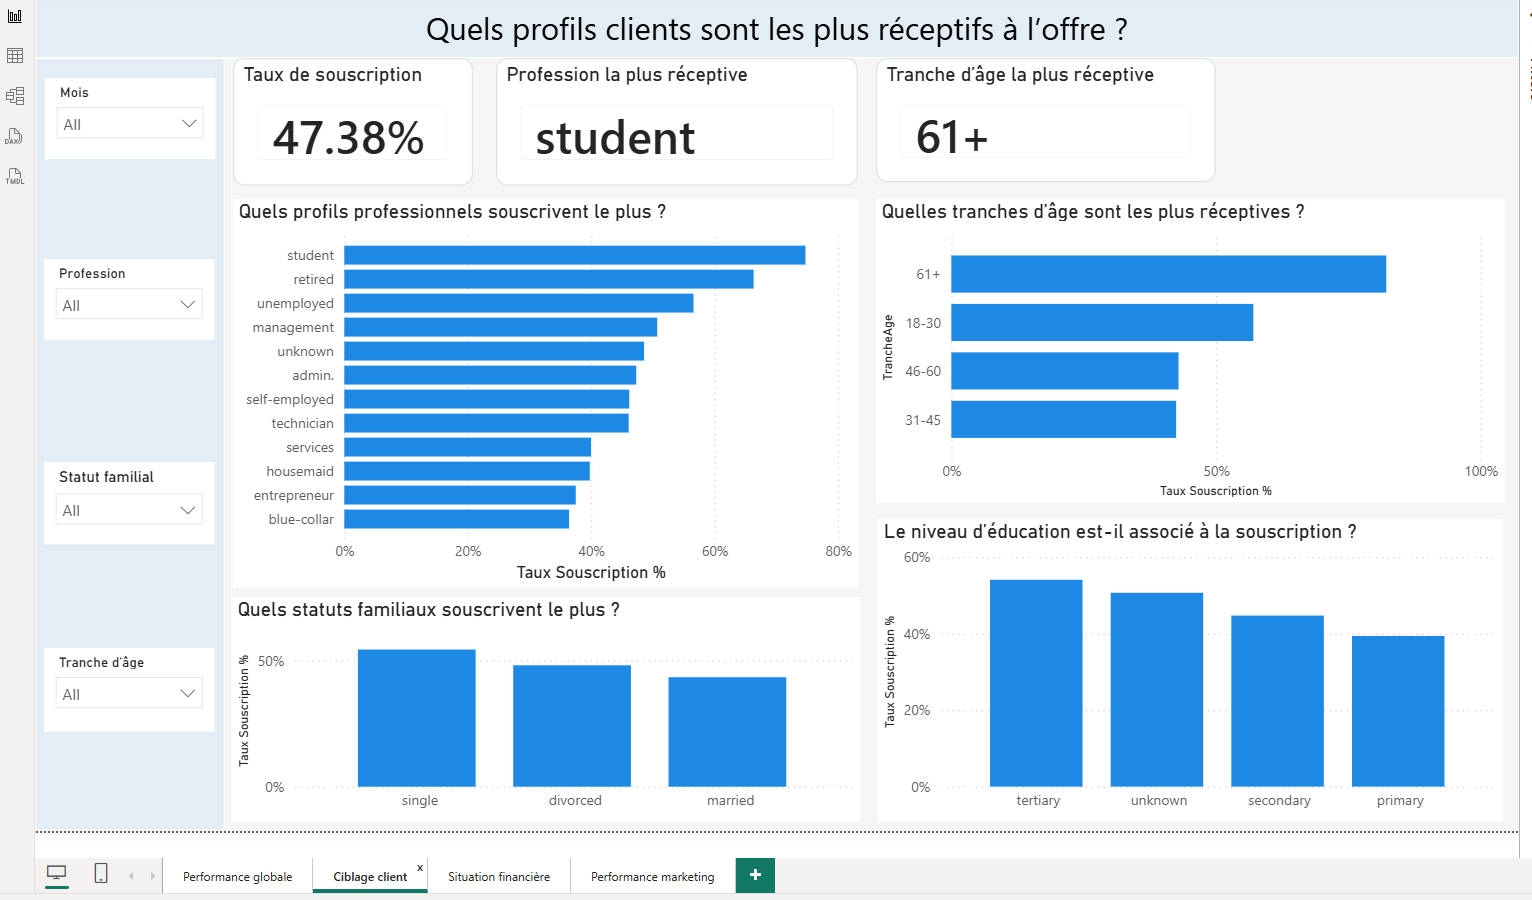

The dashboard page shown, as its layout file describes it:
{"tool":"powerbi","page":{"name":"Ciblage client","canvas":[1280,720],"ordinal":1},"visuals":[{"type":"cardVisual","title":"Taux de souscription","fields":{"Data":["bank.Taux Souscription"]},"box":[170.5,53.5,206.8,109.8],"z":0},{"type":"shape","title":"Performance globale de la campagne bancaire","box":[0,0,1280,53.5],"z":1000},{"type":"shape","box":[0,53.5,163.7,666.3],"z":2000},{"type":"slicer","title":"MOIS","fields":{"Values":["bank.month"]},"box":[8.2,71.1,147.3,70],"z":3000},{"type":"slicer","fields":{"Values":["bank.job"]},"box":[8.2,226.8,147,69.9],"z":4000},{"type":"slicer","fields":{"Values":["bank.marital"]},"box":[8.2,401.9,147,70.8],"z":5000},{"type":"clusteredBarChart","title":"Quels profils professionnels souscrivent le plus ?","fields":{"Category":["bank.job"],"Y":["bank.Taux Souscription %"]},"box":[170.5,175.1,538.9,334.7],"z":6000},{"type":"slicer","fields":{"Values":["bank.TrancheAge"]},"box":[8.2,562.4,147,71.7],"z":8000},{"type":"cardVisual","title":"Profession la plus réceptive","fields":{"Data":["bank.Profession la plus réceptive"]},"box":[397.3,53.5,312.1,109.8],"z":9000},{"type":"cardVisual","title":"Tranche d’âge la plus réceptive","fields":{"Data":["bank.Tranche d'âge la plus réceptive"]},"box":[725.7,53.5,293,107],"z":10000},{"type":"clusteredBarChart","title":"Quelles tranches d’âge sont les plus réceptives ?","fields":{"Category":["bank.TrancheAge"],"Y":["bank.Taux Souscription %"]},"box":[725.7,175.1,541.6,262.2],"z":11000},{"type":"clusteredColumnChart","title":"Le niveau d’éducation est-il associé à la souscription ?","fields":{"Category":["bank.education"],"Y":["bank.Taux Souscription %"]},"box":[726.9,450.9,538.7,260.8],"z":12000},{"type":"clusteredColumnChart","title":"Quels statuts familiaux souscrivent le plus ?","fields":{"Category":["bank.marital"],"Y":["bank.Taux Souscription %"]},"box":[170.3,518.1,542.3,193.6],"z":12001}]}

Visuals, with their boxes on the page's 1280x720 design canvas (x1, y1, x2, y2). These are canvas units, not pixel positions in the 1532x900 screenshot, which may show the page scaled, cropped or inside an application window:
"Taux de souscription" cardVisual: detection(170, 54, 377, 163)
"Performance globale de la campagne bancaire" shape: detection(0, 0, 1280, 54)
shape: detection(0, 54, 164, 720)
"MOIS" slicer: detection(8, 71, 156, 141)
slicer - bank.job: detection(8, 227, 155, 297)
slicer - bank.marital: detection(8, 402, 155, 473)
"Quels profils professionnels souscrivent le plus ?" clusteredBarChart: detection(170, 175, 709, 510)
slicer - bank.TrancheAge: detection(8, 562, 155, 634)
"Profession la plus réceptive" cardVisual: detection(397, 54, 709, 163)
"Tranche d’âge la plus réceptive" cardVisual: detection(726, 54, 1019, 160)
"Quelles tranches d’âge sont les plus réceptives ?" clusteredBarChart: detection(726, 175, 1267, 437)
"Le niveau d’éducation est-il associé à la souscription ?" clusteredColumnChart: detection(727, 451, 1266, 712)
"Quels statuts familiaux souscrivent le plus ?" clusteredColumnChart: detection(170, 518, 713, 712)
